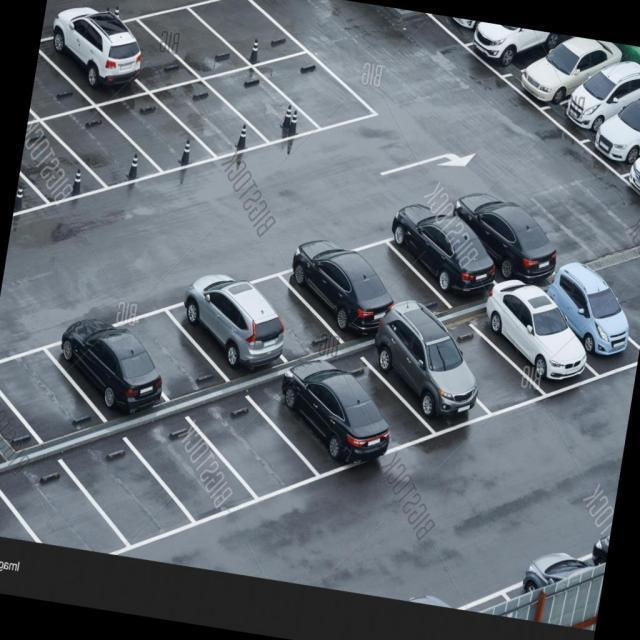space-empty: (128, 419, 250, 526), (188, 393, 309, 500), (60, 433, 176, 539), (0, 465, 129, 560), (313, 353, 428, 454), (121, 303, 223, 403), (441, 319, 539, 419), (241, 266, 339, 362), (0, 351, 98, 431), (339, 236, 435, 315), (270, 44, 366, 123), (134, 2, 236, 68), (200, 0, 294, 54)
space-occupied: (251, 366, 372, 473), (52, 319, 173, 426), (370, 327, 485, 432), (390, 204, 510, 303), (448, 192, 565, 289), (279, 241, 390, 341), (539, 270, 640, 377), (162, 288, 287, 374), (540, 50, 640, 156), (478, 296, 593, 388), (496, 26, 610, 117), (61, 102, 156, 196), (163, 77, 262, 164), (116, 92, 213, 177), (15, 122, 103, 215), (453, 19, 568, 90), (34, 20, 134, 98), (217, 68, 306, 149), (98, 4, 185, 76), (587, 91, 640, 191), (29, 38, 87, 119), (423, 13, 519, 58), (11, 145, 44, 233), (621, 134, 640, 205)
